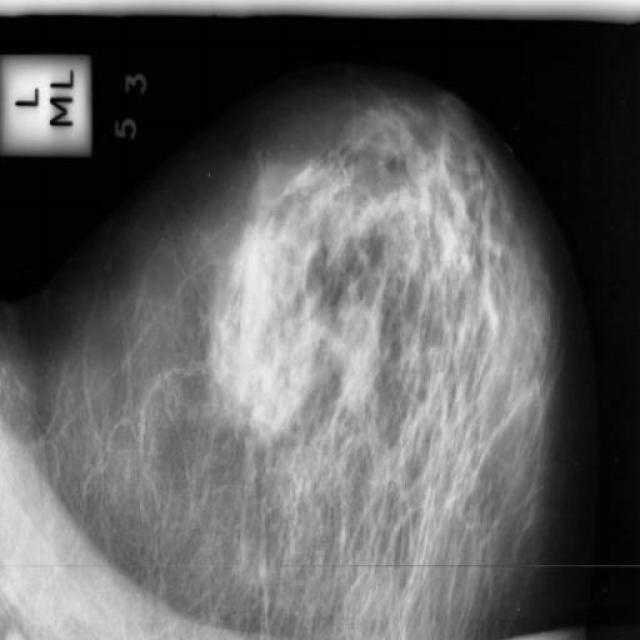cancer: (214, 293, 276, 386)
